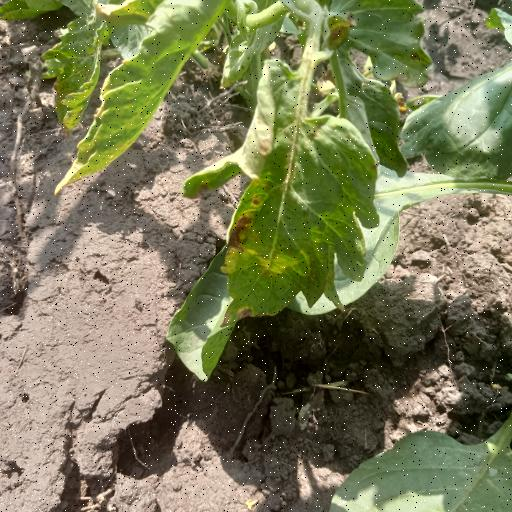Tomato_Brown_Spots: (173, 56, 379, 382)
